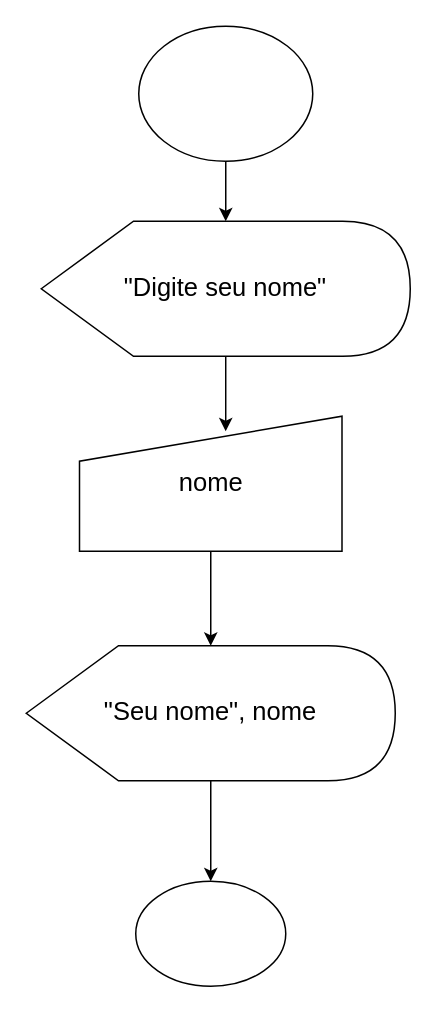
Some shapes in this 437 by 1013 pixel diagram are drawn without their labels. The shapes that lost their labels are listed below. From the top down, each one's centre as x and y in pixels, then its label:
At [225,93]: "Início".
At [210,933]: "Fim".
